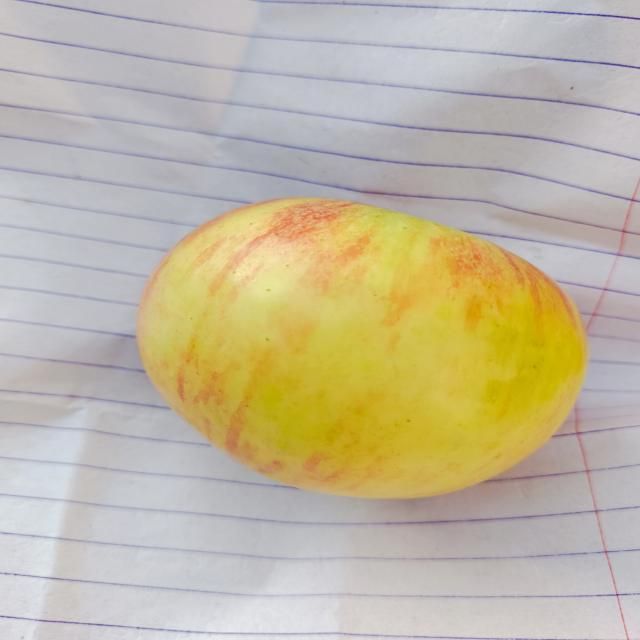Fresh Apple: (139, 192, 584, 506)
